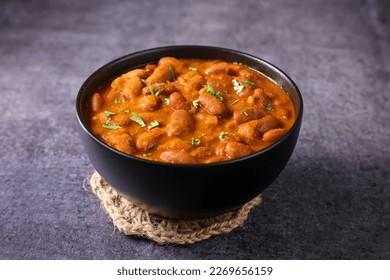rajma: (91, 57, 285, 171)
